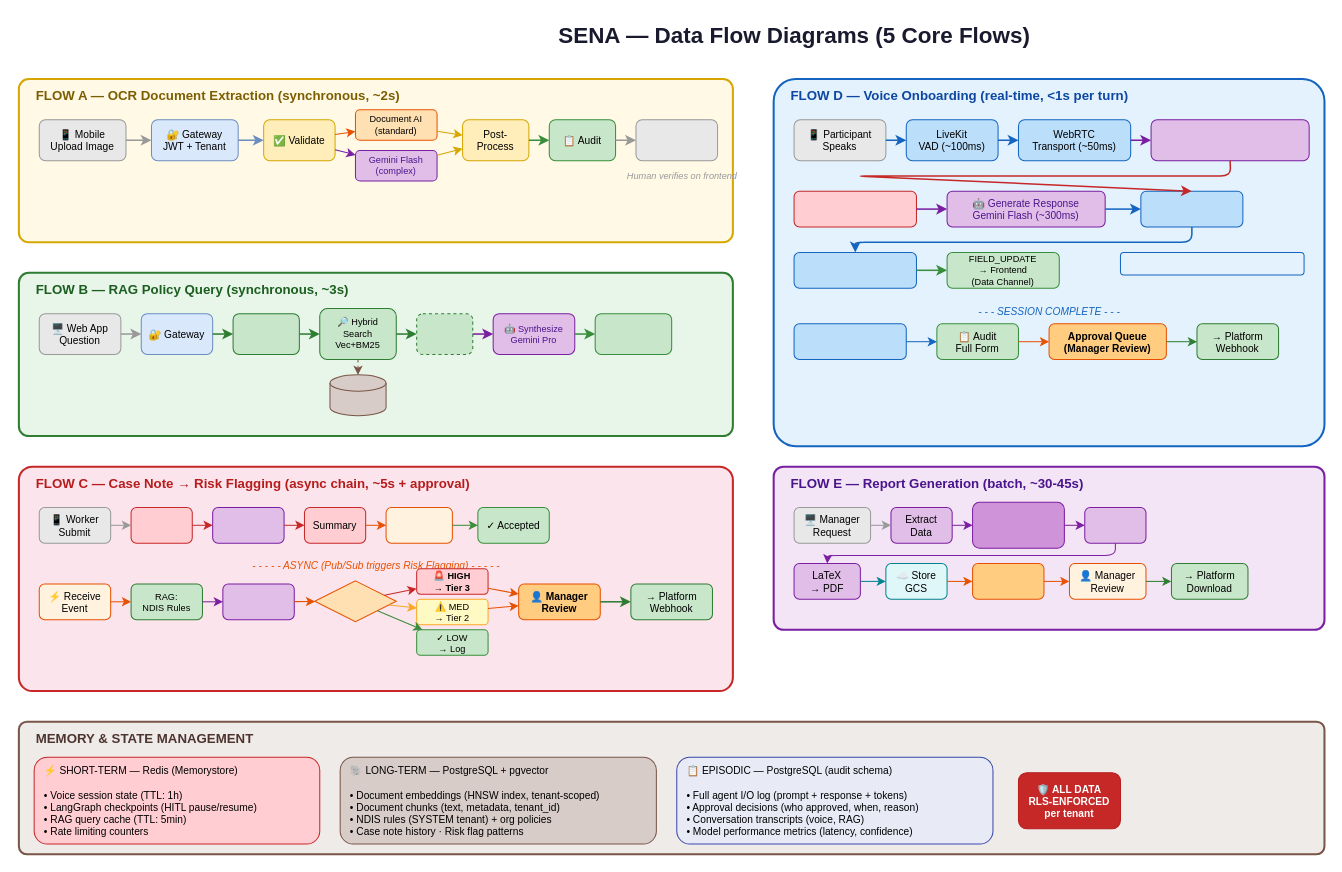
The diagram is 1342 pixels wide and 872 high, and some of its shapes have lost their labels. Here are the shapes that lost their labels. From the top down, the centre of each, then its label:
(676,140): 📱 Response Envelope
(1229,140): 🤖 Gemini Multimodal STT + Reasoning (~400ms)
(854,208): Update Form State Redis (~5ms)
(1191,208): TTS Synthesis (~200ms)
(854,269): 🔊 Audio Delivery LiveKit (~50ms)
(1211,263): Total per turn: ~700-1100ms
(265,333): 📐 Embed Query
(444,333): Rerank (opt)
(633,333): 📋 Audit + Citations
(849,341): Compile Form (Redis → JSON)
(357,395): pgvector + BM25
(161,524): Validate
(248,524): 🤖 Clinical Review
(418,524): ⚡ Emit Pub/Sub
(1018,524): 🤖 Synthesize Gemini Pro (128K ctx)
(1115,524): Compile Stats
(258,601): 🤖 Classify Risks
(355,601): Route Escalation
(1008,581): Approval Queue
